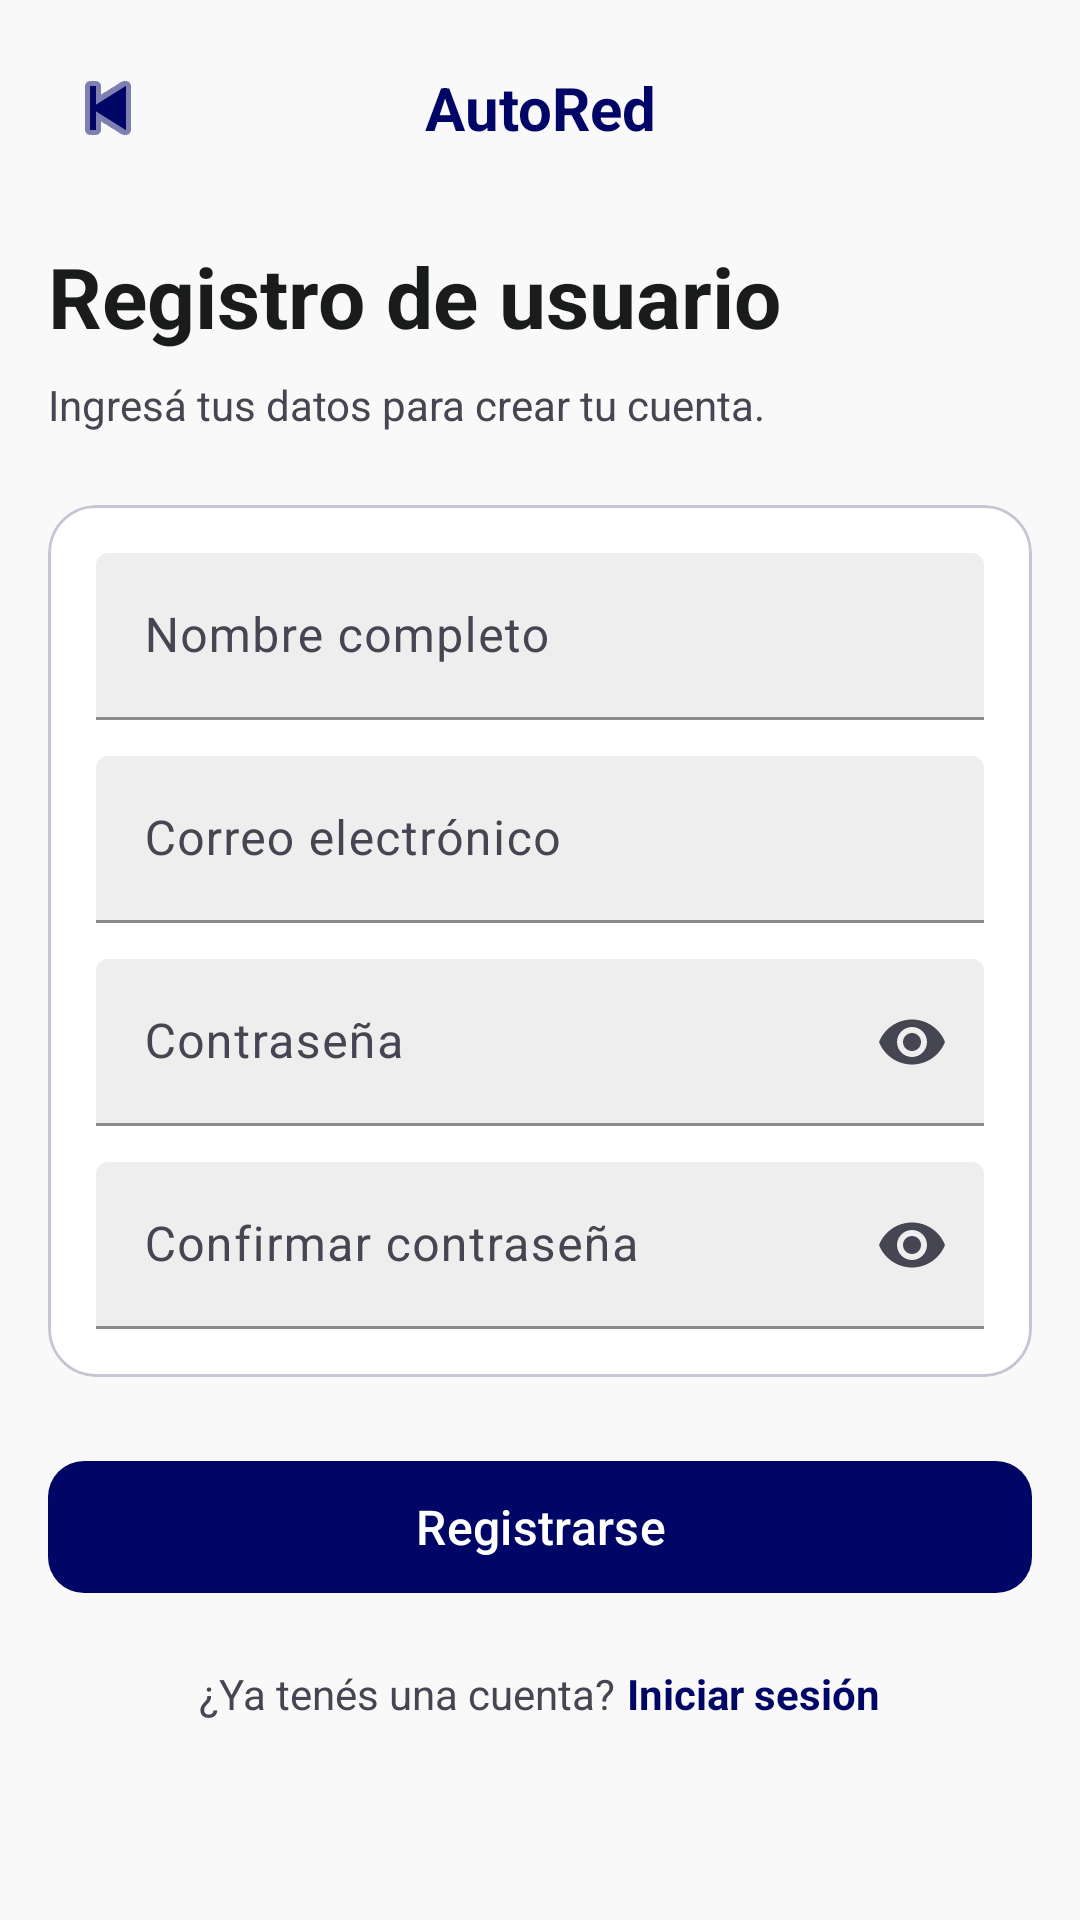

Where to tap for icons on this 1080px×1920px app screen, as point (x, y):
Volver: point (108, 108)
